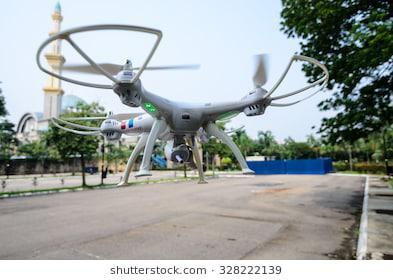drone: (26, 17, 338, 193)
